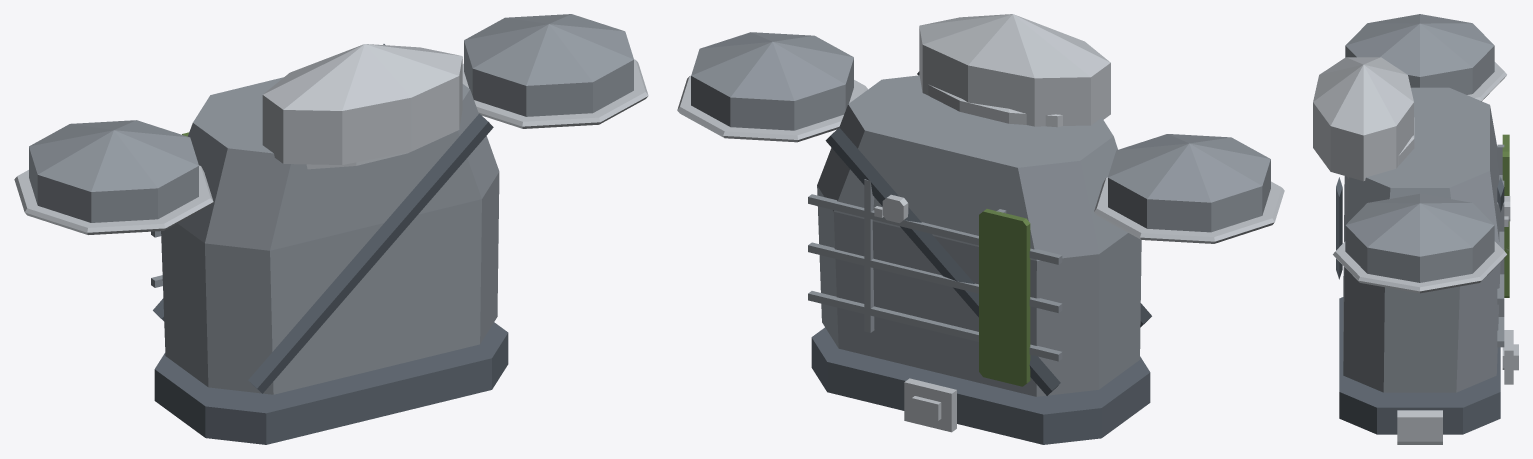
File: armor_bow_s1.fbx
The picture shows the model from 3 angles, left to right: view 1: azimuth 30°, elevation 25°; view 2: azimuth 150°, elevation 25°; view 3: azimuth 270°, elevation 25°; orthographic projection. The views are drawn at different scales.
Visible parts, largest first — view 1: Chest_Body, Chest_Inner, Chest_Trim, Shoulder_L_Body, Shoulder_R_Body, Shoulder_L_Trim, Shoulder_R_Trim; view 2: Chest_Body, Chest_Trim, Chest_Inner, Shoulder_L_Body, Shoulder_R_Body, Chest_Attach, Shoulder_L_Trim, Shoulder_R_Trim; view 3: Chest_Body, Chest_Trim, Shoulder_R_Body, Shoulder_L_Body, Chest_Inner, Shoulder_R_Trim, Chest_Attach, Shoulder_L_Trim.
Boxes of the visible parts, x1,y1,x2,y2 form: Chest_Body: (151,77,499,394); Chest_Inner: (153,44,508,444); Chest_Trim: (262,44,462,169); Shoulder_L_Body: (29,120,198,222); Shoulder_R_Body: (464,14,633,116); Shoulder_L_Trim: (14,165,213,234); Shoulder_R_Trim: (462,59,648,128); Chest_Body: (808,75,1141,396); Chest_Trim: (874,14,1110,432); Chest_Inner: (811,71,1151,444); Shoulder_L_Body: (1108,134,1270,232); Shoulder_R_Body: (691,32,853,130); Chest_Attach: (979,209,1030,386); Shoulder_L_Trim: (1094,177,1284,243); Shoulder_R_Trim: (677,75,867,142); Chest_Body: (1343,87,1504,392); Chest_Trim: (1313,57,1518,444); Shoulder_R_Body: (1345,193,1494,282); Shoulder_L_Body: (1345,14,1494,94); Chest_Inner: (1336,177,1504,434); Shoulder_R_Trim: (1333,241,1506,293); Chest_Attach: (1502,134,1509,297); Shoulder_L_Trim: (1467,62,1506,101).
Size of the model in its own units: 446 by 261 by 153.
